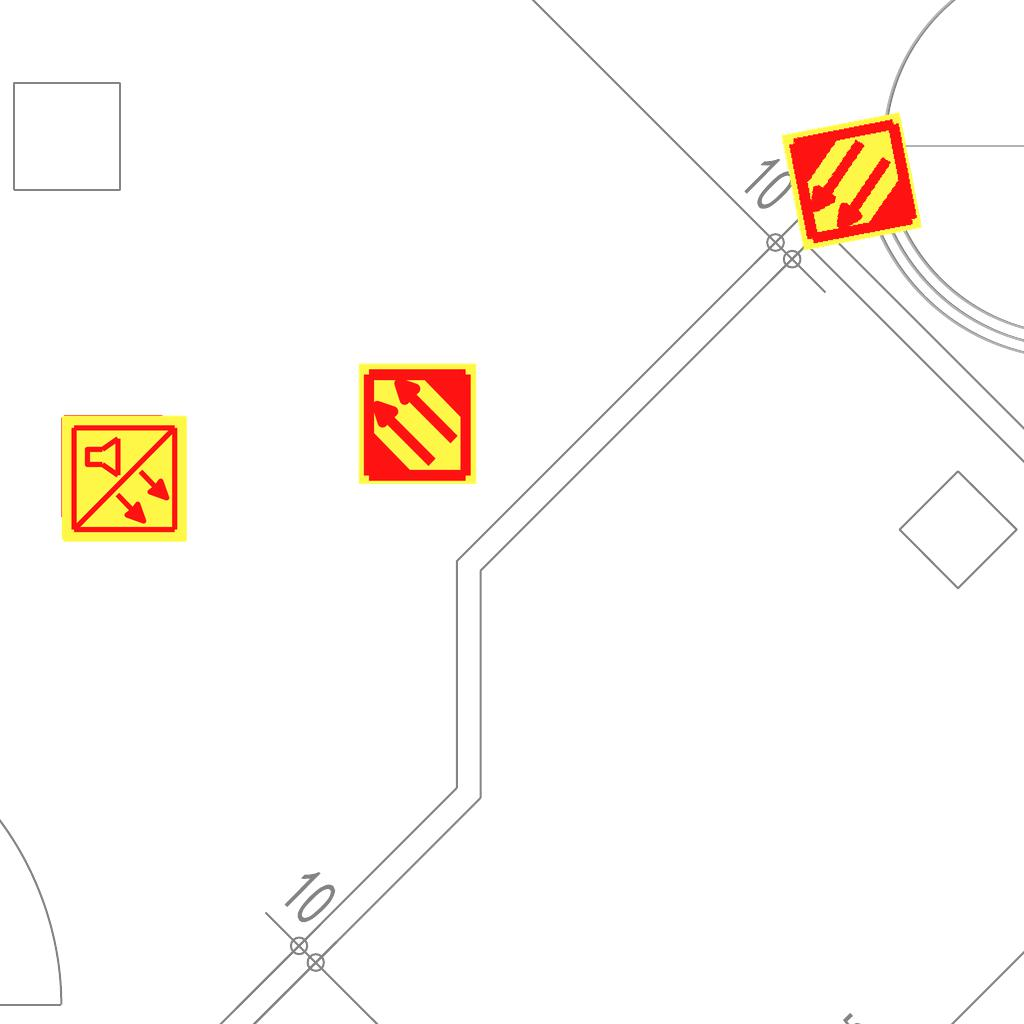ASR_Ansaugrauchmelder: (778, 108, 925, 255), (355, 361, 480, 486)
OKW_Multisensormelder_(Kombination_optischer_Rauch-Kahlenmonoxid_Waerme-Melder): (58, 413, 190, 545)
